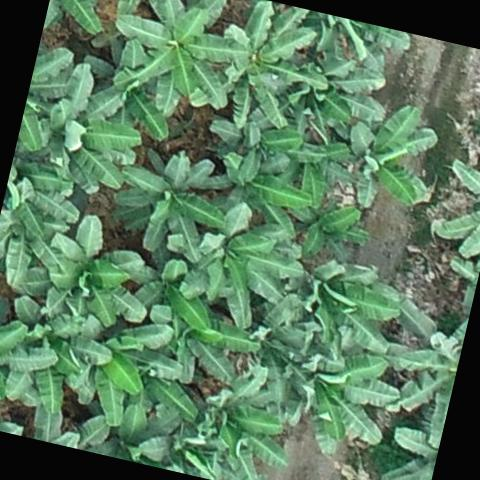Banana-plant: (11, 54, 155, 198), (23, 202, 164, 340), (163, 194, 306, 330), (74, 309, 209, 444), (170, 347, 297, 480), (205, 0, 334, 128), (102, 0, 251, 108), (0, 293, 117, 427), (333, 91, 446, 220), (280, 244, 404, 359), (280, 340, 400, 458), (116, 144, 228, 265), (0, 167, 84, 293), (209, 138, 307, 226), (0, 311, 57, 434)
